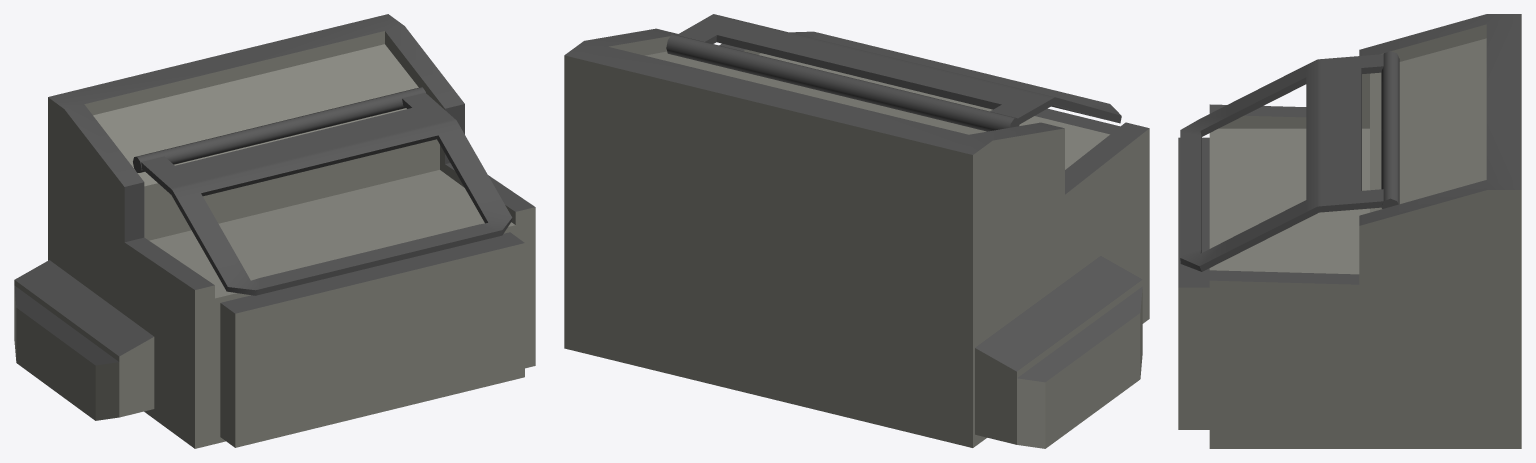
Rendered from container_01.fbx.
The picture shows the model from 3 angles, left to right: view 1: azimuth 30°, elevation 25°; view 2: azimuth 150°, elevation 25°; view 3: azimuth 270°, elevation 25°; orthographic projection. The views are drawn at different scales.
Parts seen in each view (by area): view 1: container_01; view 2: container_01; view 3: container_01.
Boxes of the visible parts, <box> form: container_01: <box>14,14,535,448</box>; container_01: <box>564,14,1149,448</box>; container_01: <box>1178,14,1521,448</box>.
Bounding box in the file's own units: 204 × 123 × 148.
